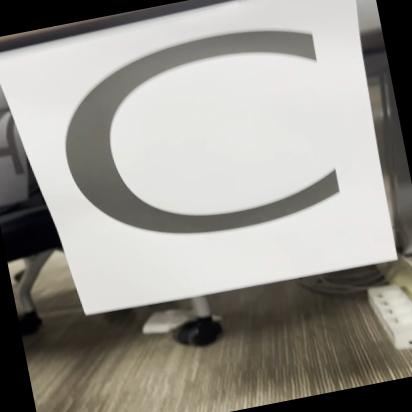seat: (0, 0, 412, 340)
